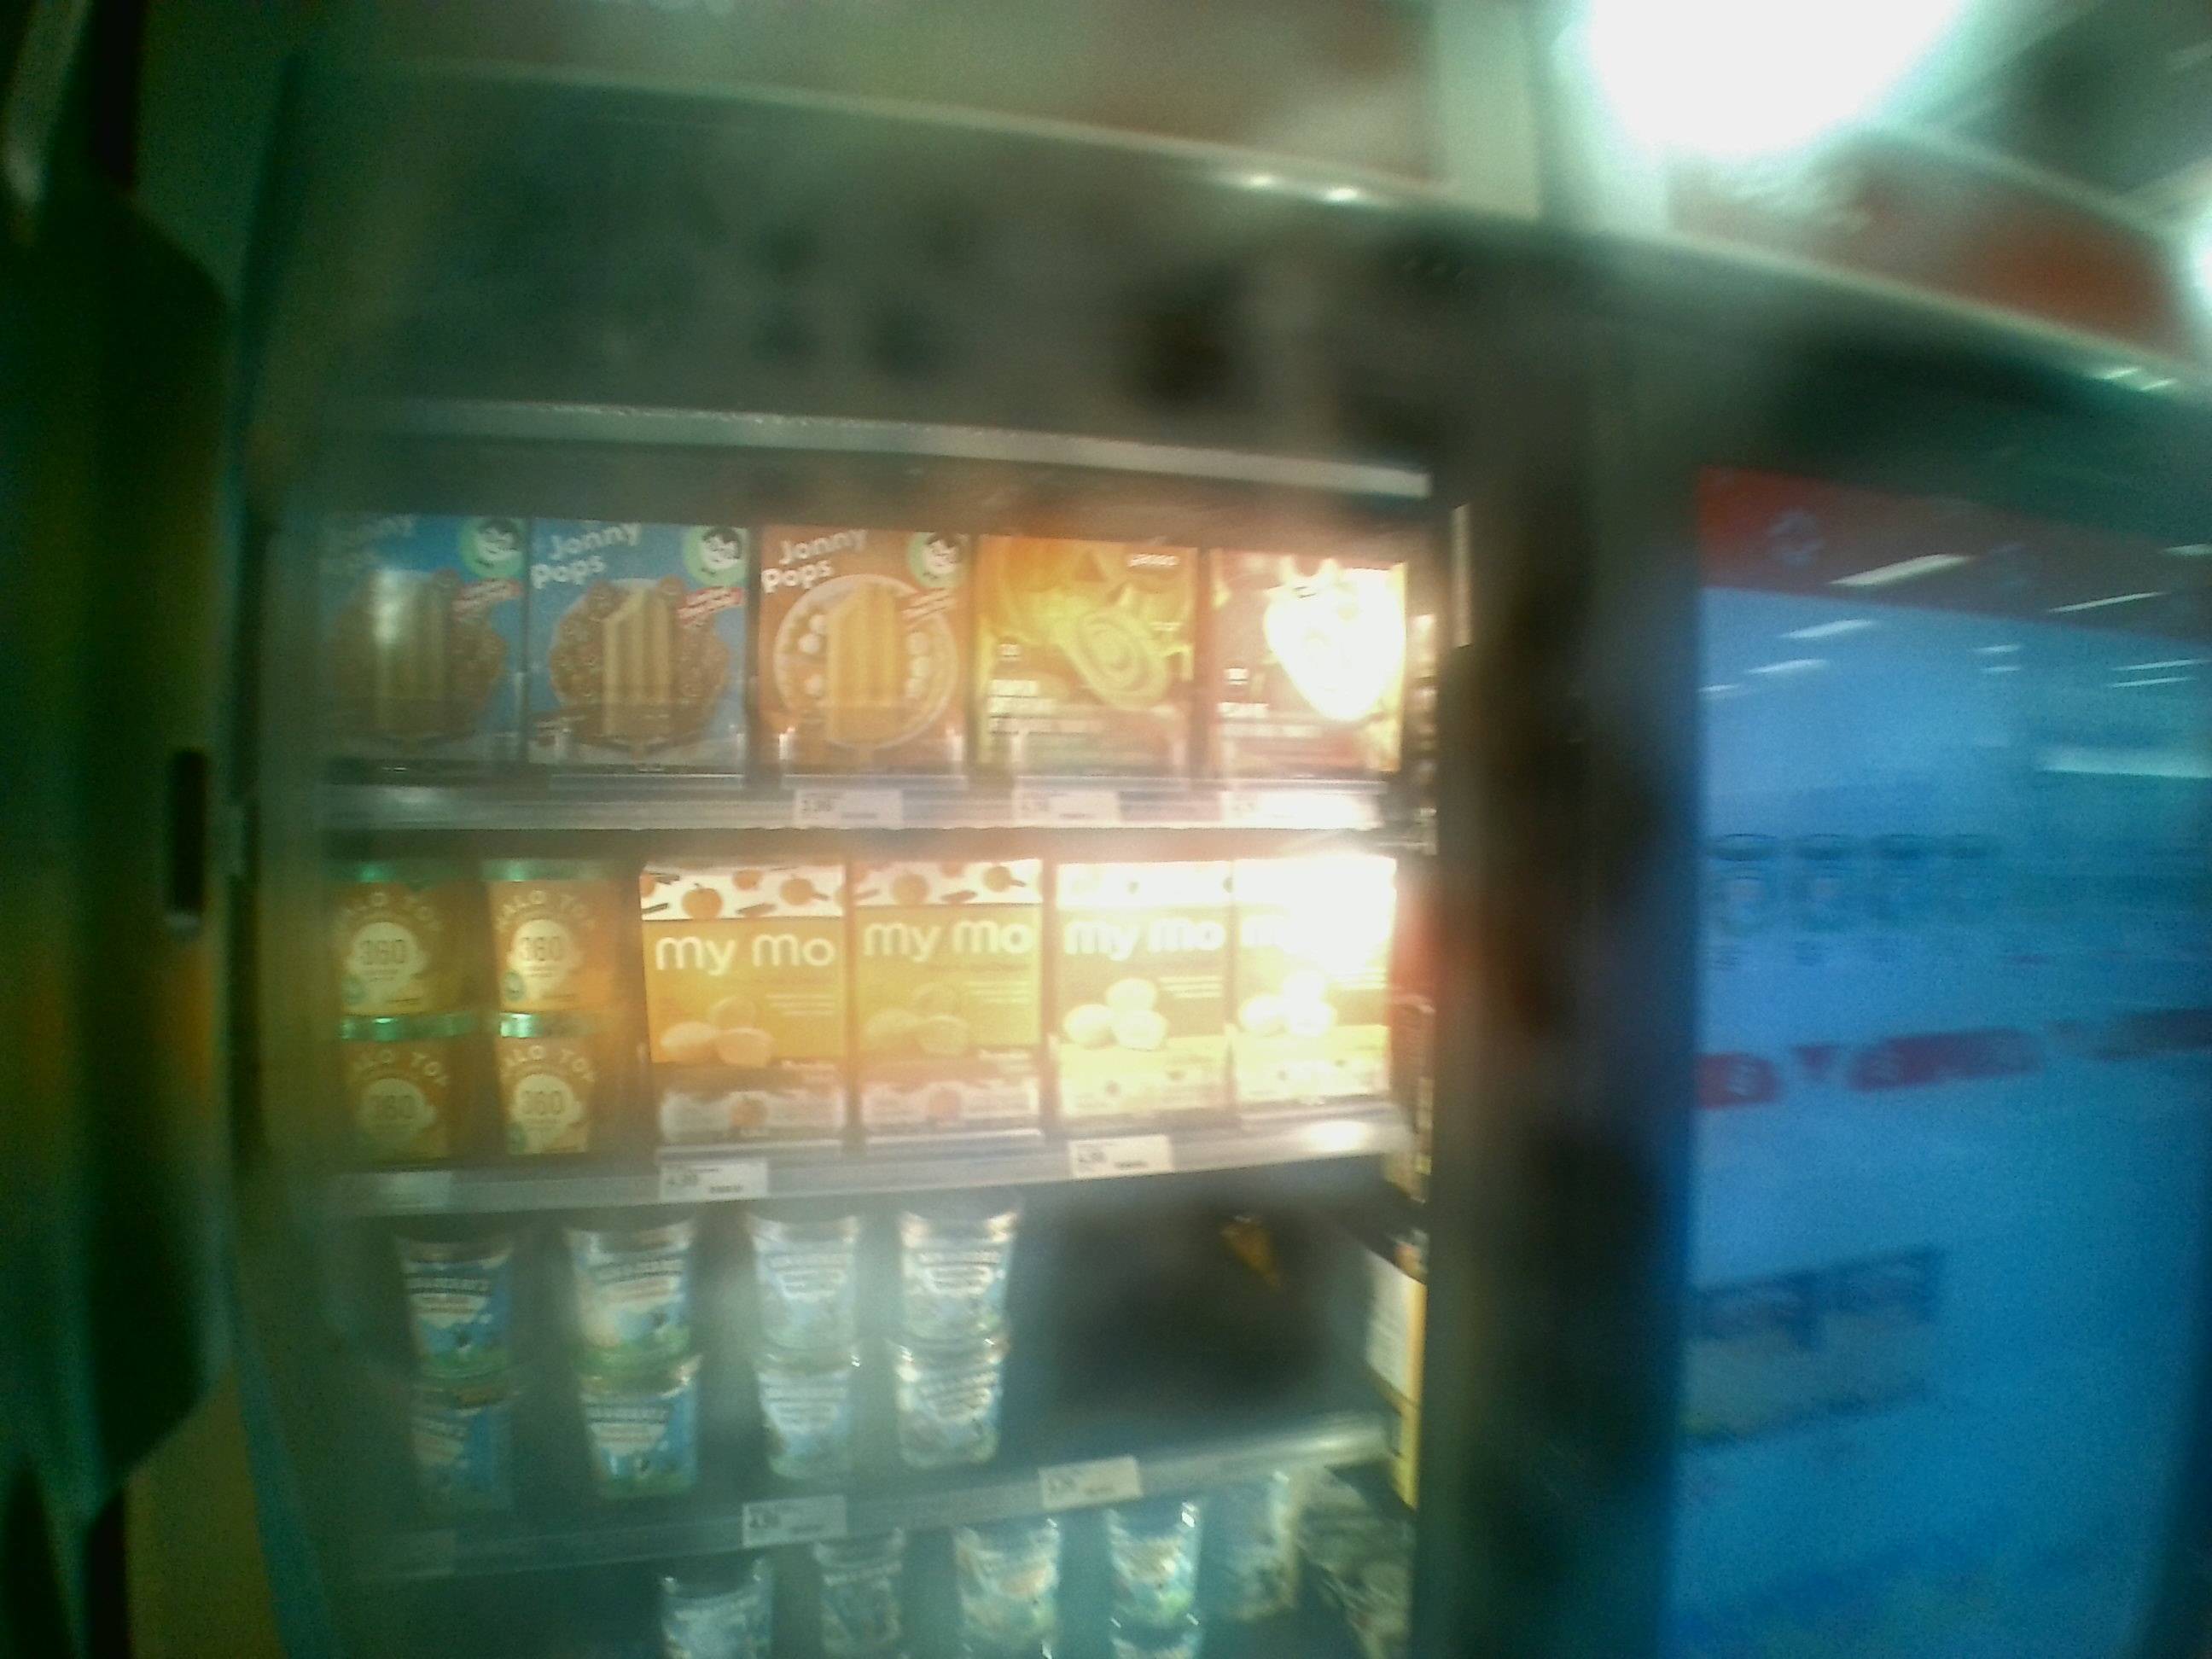shelf: (256, 444, 1407, 807), (261, 803, 1395, 1154), (294, 1164, 1400, 1466)
